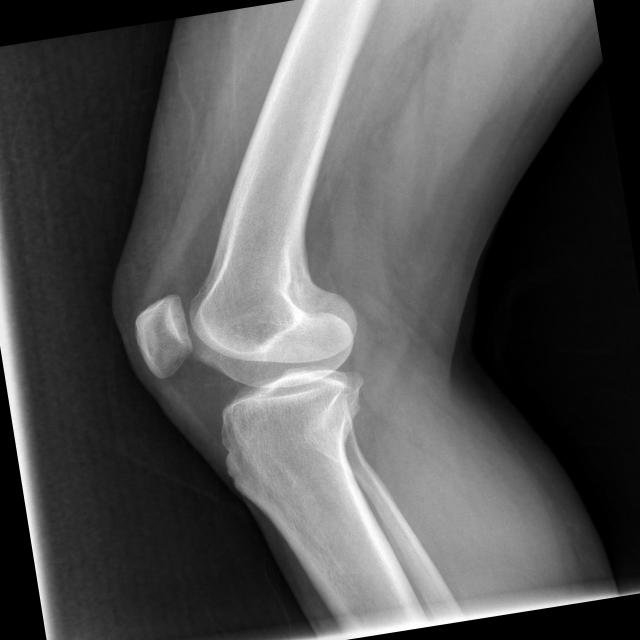Knee: (124, 245, 380, 468)
